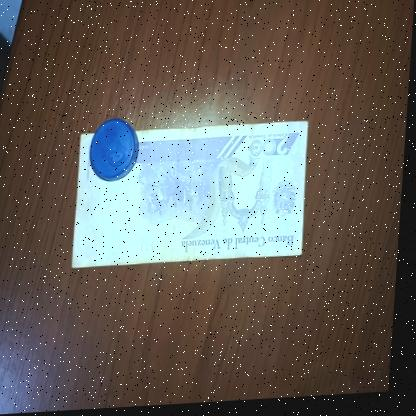ten-back-vef: (73, 124, 315, 270)
